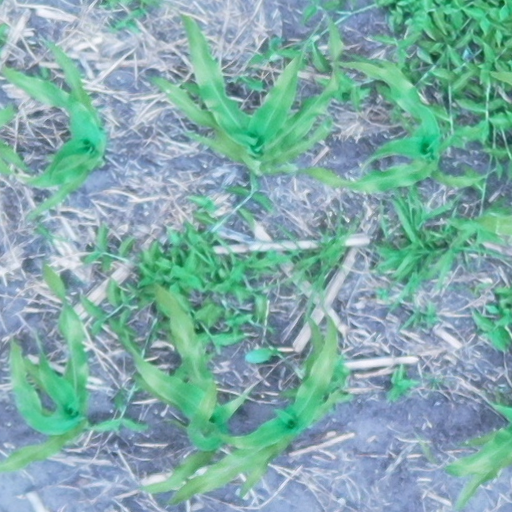planta: (166, 310, 356, 501), (151, 12, 342, 200), (123, 285, 257, 493), (299, 60, 486, 193), (3, 35, 105, 218)
